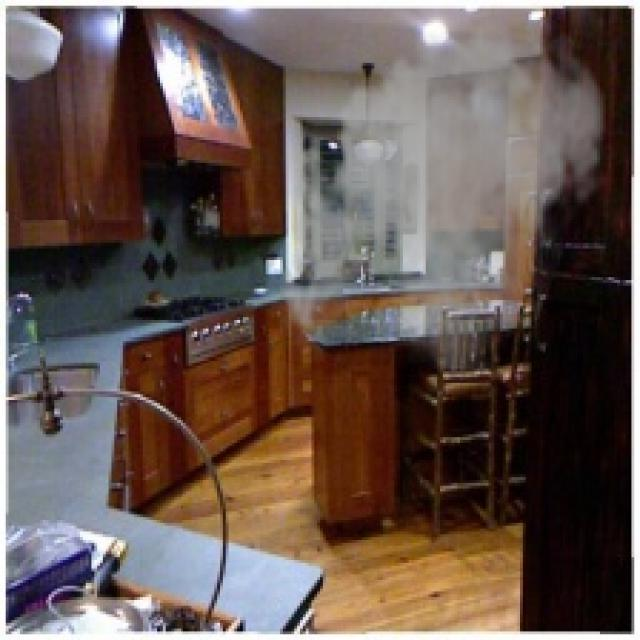Smoke: (268, 6, 614, 374)
